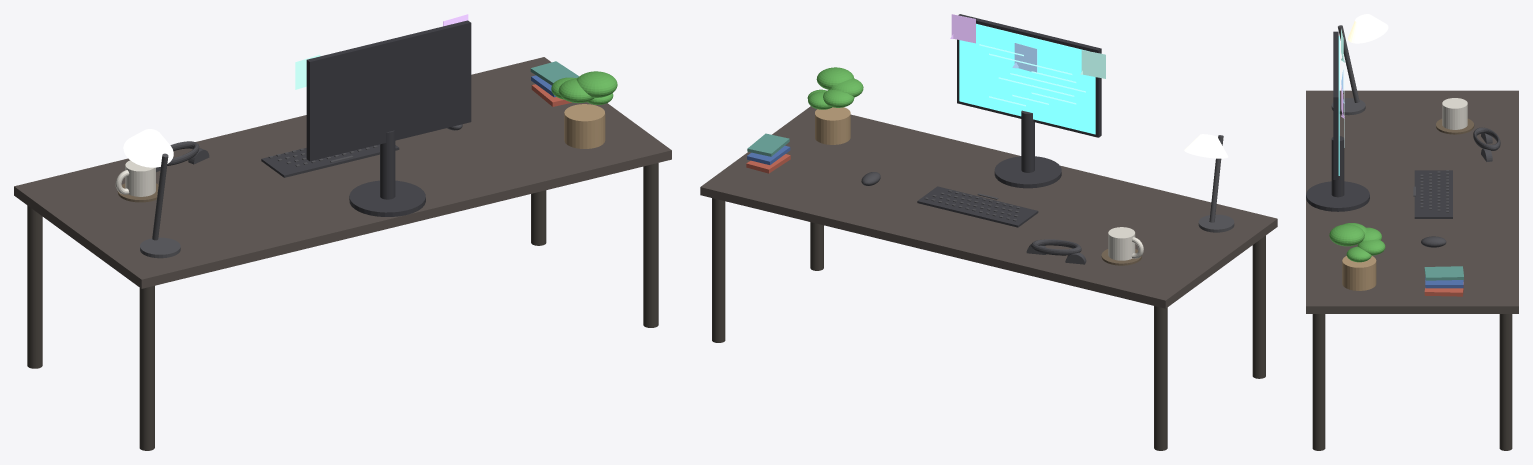
Rendered from workspace.glb.
3 renders of one model, left to right at view 1: azimuth 30°, elevation 25°; view 2: azimuth 150°, elevation 25°; view 3: azimuth 270°, elevation 25°, orthographic. The views are drawn at different scales.
Visible parts, largest first — view 1: DeskTop, MonitorFrame, Leg_0, Leg_1, Leg_2, MonitorStandBase, PlantPot, Keyboard, LampShade, MonitorStandNeck, CoffeeMug, Leg_3 (+2 smaller); view 2: DeskTop, MonitorScreen, Keyboard, Leg_2, Leg_3, Leg_0, MonitorFrame, MonitorStandBase, PlantPot, CoffeeMug, MonitorStandNeck, LampShade (+5 smaller); view 3: DeskTop, Leg_1, Leg_3, Keyboard, MonitorStandBase, PlantPot, MonitorFrame, LampShade, CoffeeMug, Leaf_4, MonitorStandNeck, Book_2 (+10 smaller).
Part boxes in pixels (left/top/right/bottom): DeskTop: left=14, top=57, right=671, bottom=288; MonitorFrame: left=306, top=20, right=471, bottom=161; Leg_0: left=139, top=285, right=154, bottom=450; Leg_1: left=643, top=163, right=658, bottom=327; Leg_2: left=27, top=205, right=42, bottom=368; MonitorStandBase: left=349, top=180, right=425, bottom=216; PlantPot: left=564, top=104, right=605, bottom=148; Keyboard: left=261, top=144, right=399, bottom=177; LampShade: left=123, top=129, right=173, bottom=167; MonitorStandNeck: left=380, top=130, right=395, bottom=199; CoffeeMug: left=125, top=160, right=155, bottom=196; Leg_3: left=531, top=190, right=546, bottom=245; DeskTop: left=700, top=106, right=1277, bottom=308; MonitorScreen: left=959, top=23, right=1095, bottom=134; Keyboard: left=917, top=186, right=1038, bottom=227; Leg_2: left=1154, top=306, right=1167, bottom=450; Leg_3: left=712, top=198, right=725, bottom=342; Leg_0: left=1252, top=235, right=1265, bottom=378; MonitorFrame: left=957, top=14, right=1101, bottom=137; MonitorStandBase: left=994, top=156, right=1061, bottom=188; PlantPot: left=815, top=107, right=850, bottom=144; CoffeeMug: left=1108, top=227, right=1135, bottom=260; MonitorStandNeck: left=1021, top=110, right=1034, bottom=172; LampShade: left=1184, top=134, right=1228, bottom=158; DeskTop: left=1306, top=90, right=1518, bottom=313; Leg_1: left=1312, top=314, right=1325, bottom=450; Leg_3: left=1499, top=314, right=1512, bottom=450; Keyboard: left=1414, top=170, right=1452, bottom=218; MonitorStandBase: left=1306, top=181, right=1369, bottom=211; PlantPot: left=1342, top=256, right=1376, bottom=290; MonitorFrame: left=1333, top=31, right=1338, bottom=179; LampShade: left=1348, top=14, right=1388, bottom=43; CoffeeMug: left=1442, top=98, right=1467, bottom=129; Leaf_4: left=1329, top=224, right=1364, bottom=246; MonitorStandNeck: left=1331, top=136, right=1344, bottom=197; Book_2: left=1424, top=266, right=1463, bottom=280.
Size of what is drawn, in the model's own units: 2.4 by 1.47 by 1.
